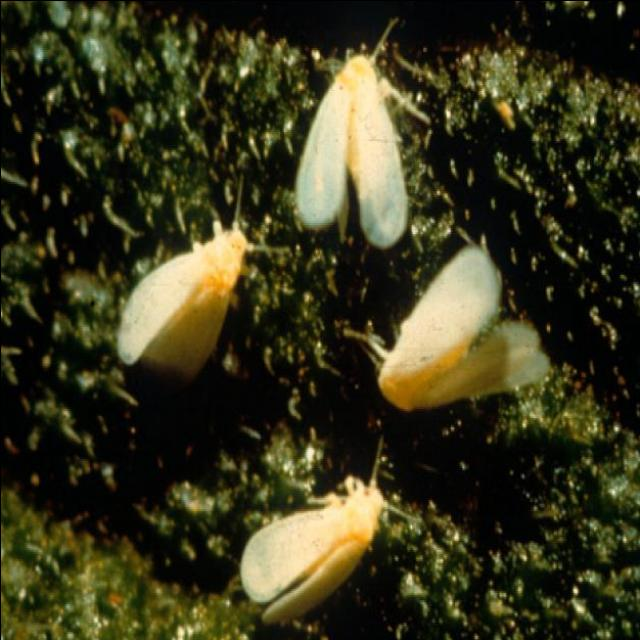Whitefly: (330, 233, 563, 425), (287, 0, 455, 261), (110, 168, 298, 386), (232, 425, 424, 636)
